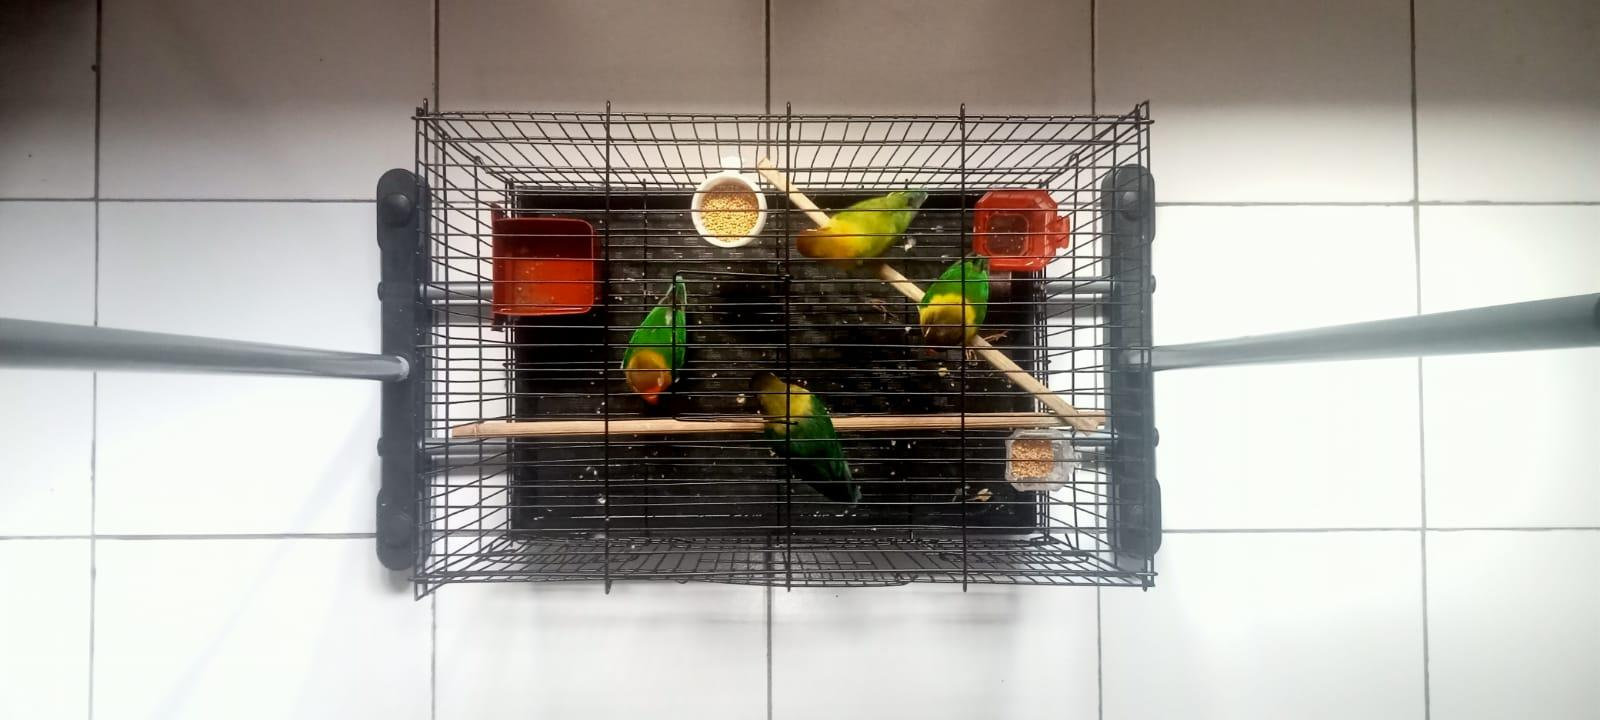LoveBird: (750, 370, 859, 507), (796, 188, 929, 271), (622, 273, 687, 405), (918, 254, 990, 352)
